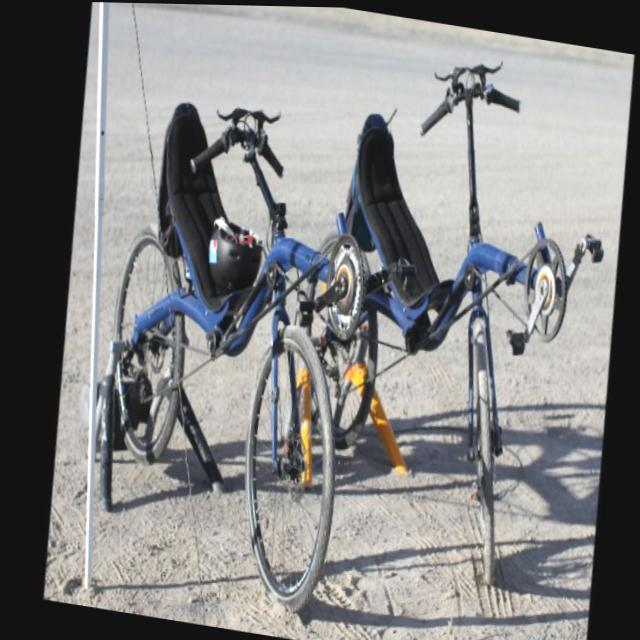recumbent-bike: (248, 23, 640, 604), (59, 80, 449, 626)
